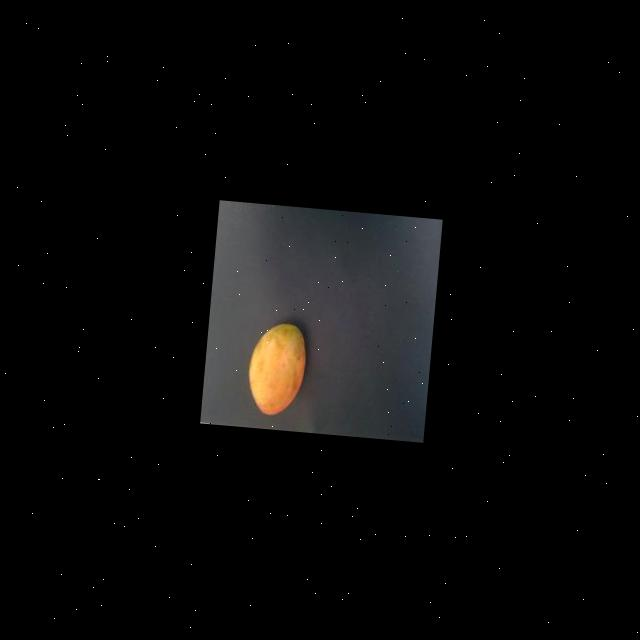Mango: (244, 319, 308, 418)
